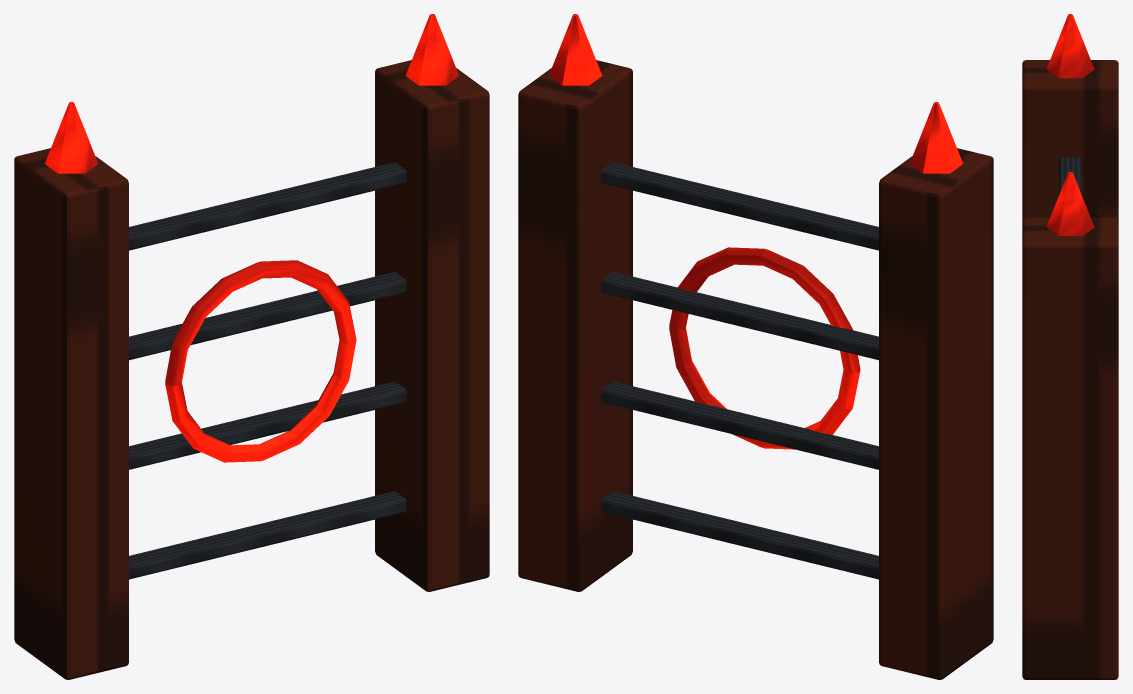
File: SM_FC_FireGate.fbx
3 views of the same model, side by side, from view 1: azimuth 30°, elevation 25°; view 2: azimuth 150°, elevation 25°; view 3: azimuth 270°, elevation 25° (orthographic). The views are drawn at different scales.
Visible parts, largest first — view 1: SM_FC_FireGate; view 2: SM_FC_FireGate; view 3: SM_FC_FireGate.
Part boxes in pixels (bbox=[...]): SM_FC_FireGate: bbox=[14, 14, 489, 679]; SM_FC_FireGate: bbox=[518, 14, 993, 679]; SM_FC_FireGate: bbox=[1022, 14, 1118, 679].
Size of what is drawn, in the model's own units: 3.65 by 4.53 by 0.8.
